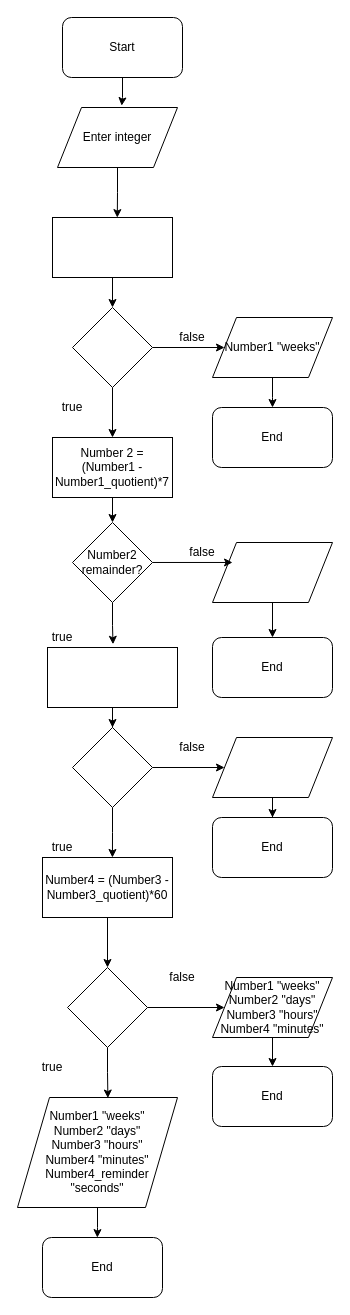
This 350x1315 diagram has some shape labels left out. The shapes that lost their labels are listed below. From the top down, each one's box as (x1, y1, x2, y2) in pixels, then its label:
(52, 216, 172, 278): Number1 = input / 604,800
(72, 306, 152, 388): Number1 remainder?
(212, 542, 332, 602): Number1 "weeks" Number2 "days"
(46, 646, 178, 708): Number 3 = (Number2 - Number2_quotient)*24
(72, 726, 152, 808): Number3 remainder?
(212, 736, 332, 798): Number1 "weeks" Number2 "days" Number3 "hours"
(66, 966, 148, 1048): Number4 remainder?
